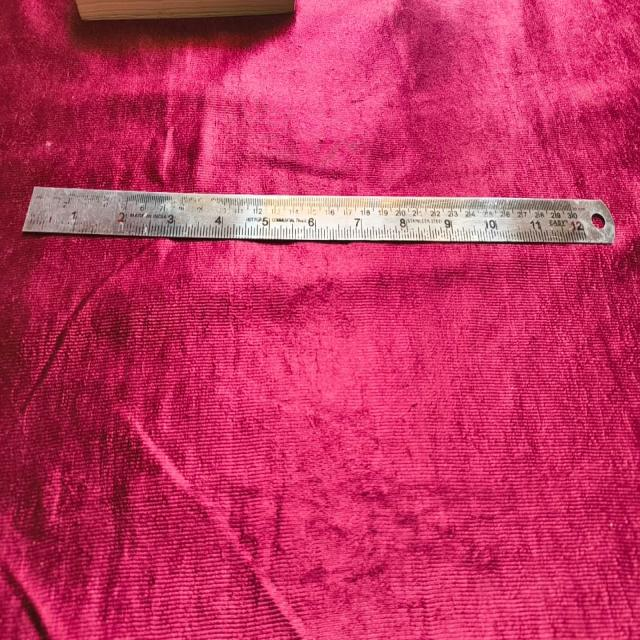scale: (23, 185, 615, 240)
